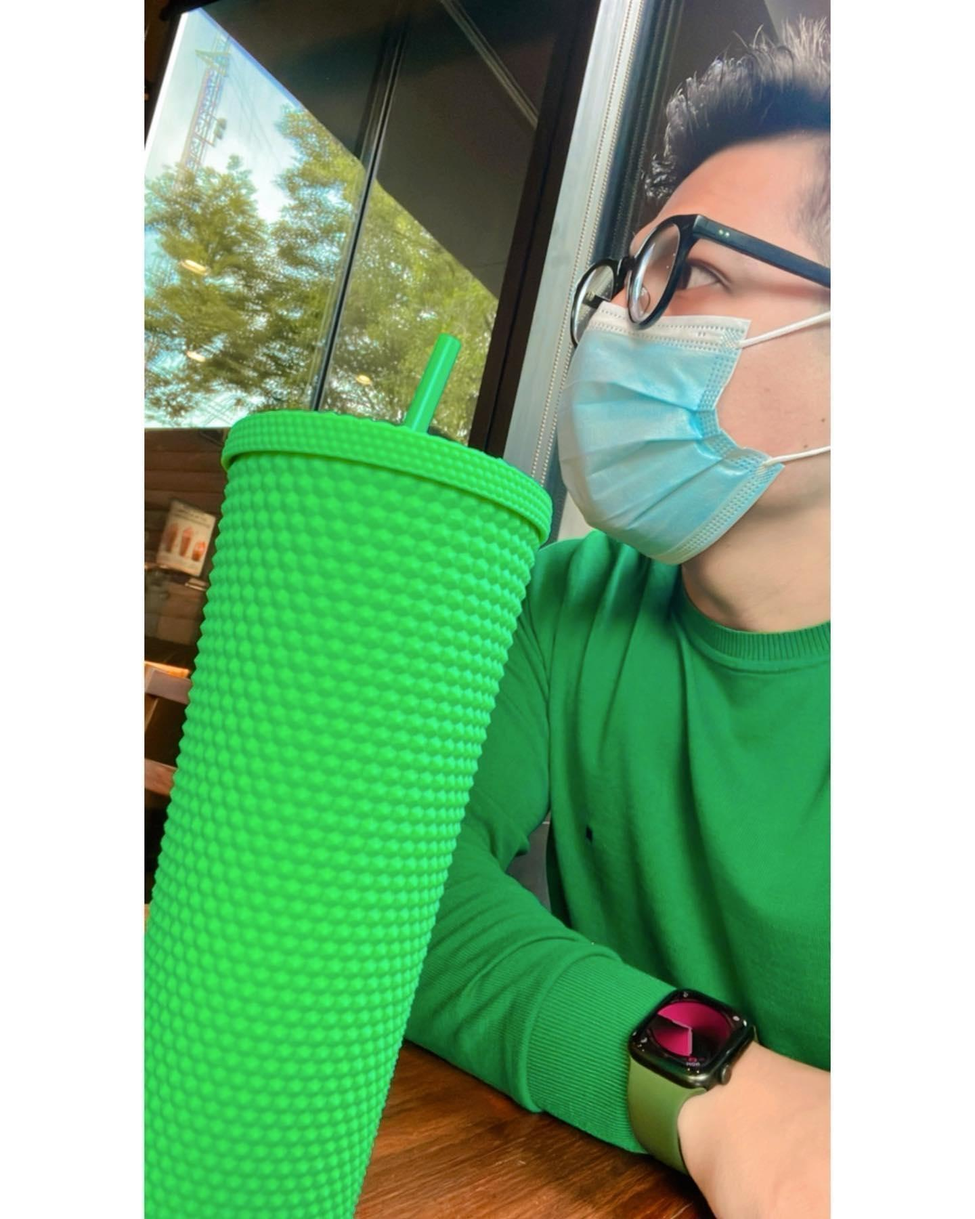cup-disposable: (132, 395, 565, 1219)
